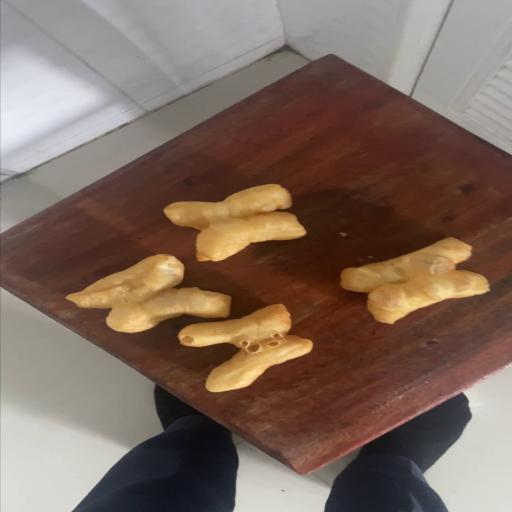street_golden_defect: (342, 238, 486, 323), (178, 306, 312, 391)
street_golden_good: (67, 255, 229, 331), (164, 184, 304, 260)
